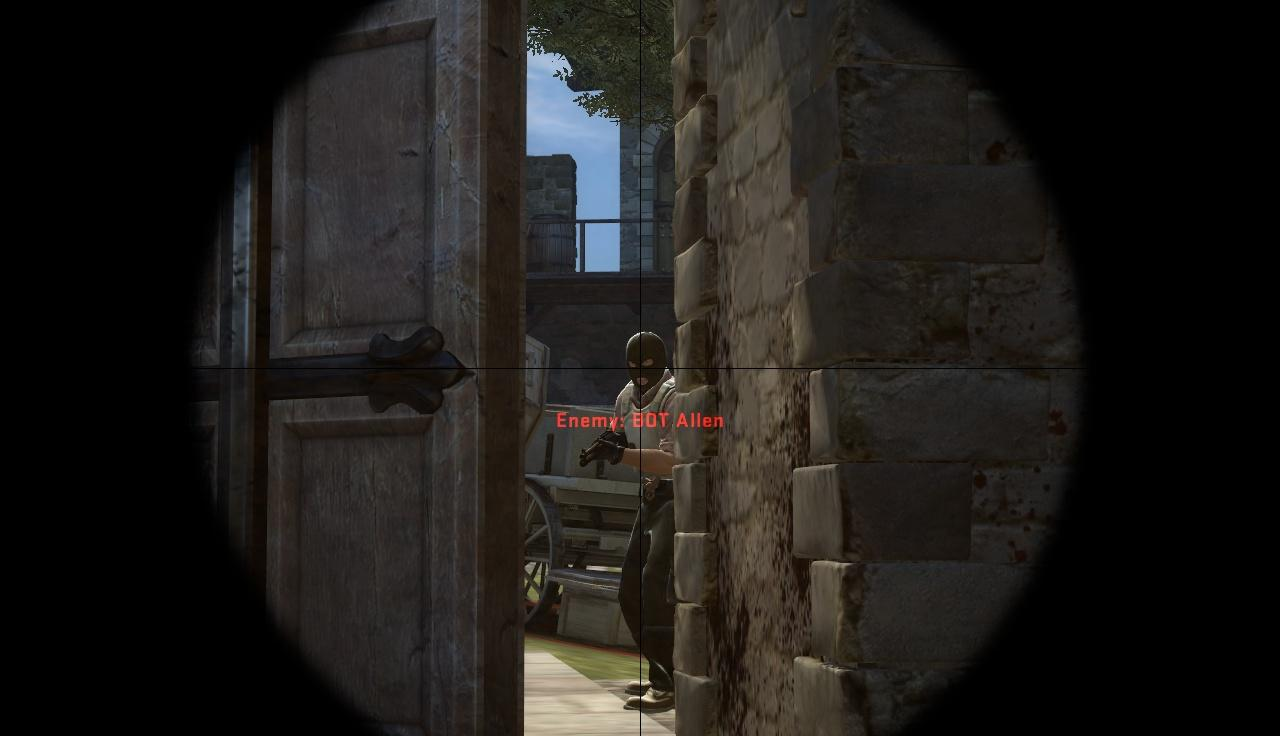tt: (616, 330, 676, 711)
tthead: (625, 331, 665, 392)
